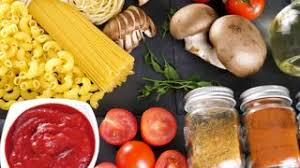Tomato: (141, 106, 179, 145), (118, 142, 159, 168), (230, 1, 268, 15)
